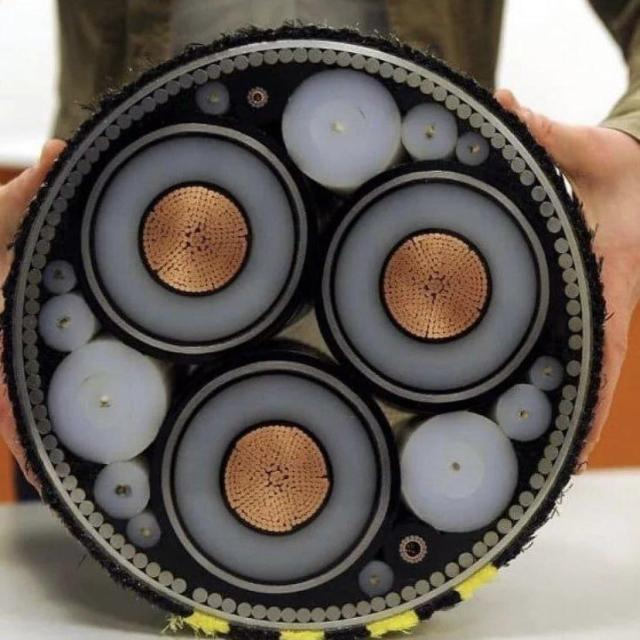wire: (538, 216, 572, 234), (71, 149, 111, 163), (110, 524, 128, 552), (88, 504, 107, 530), (34, 418, 61, 436), (504, 155, 532, 172), (50, 462, 78, 479), (440, 560, 464, 579), (513, 488, 538, 506), (548, 237, 580, 251), (389, 63, 409, 85), (133, 545, 148, 574), (556, 253, 583, 269), (534, 200, 559, 217), (23, 374, 48, 390), (91, 140, 124, 152), (562, 300, 586, 316), (23, 296, 47, 312), (63, 171, 88, 186), (402, 585, 419, 607), (564, 333, 586, 350), (203, 61, 220, 83), (207, 585, 221, 611), (104, 514, 118, 540), (22, 359, 50, 372), (453, 553, 478, 567), (46, 449, 71, 463), (39, 434, 62, 449), (281, 605, 299, 624), (69, 486, 88, 504), (479, 120, 496, 140), (507, 503, 527, 520), (529, 473, 549, 490), (140, 98, 160, 115), (432, 82, 448, 103), (466, 112, 490, 126), (253, 601, 269, 622), (292, 48, 310, 66), (431, 572, 449, 590), (60, 476, 83, 490), (69, 158, 92, 172), (492, 517, 512, 533), (468, 543, 489, 558), (337, 47, 350, 71), (49, 202, 75, 214), (408, 66, 422, 88), (224, 595, 238, 617), (562, 284, 584, 298), (567, 316, 585, 333), (78, 498, 95, 516), (529, 184, 548, 200), (153, 90, 172, 106), (532, 459, 557, 471), (193, 576, 205, 601), (126, 539, 138, 564), (18, 315, 43, 327), (351, 51, 364, 74), (27, 256, 50, 269), (56, 187, 85, 197), (517, 172, 541, 184), (310, 607, 328, 623), (239, 597, 252, 619), (160, 567, 172, 590), (268, 604, 281, 625), (307, 46, 322, 64), (34, 226, 58, 237), (378, 57, 391, 77), (541, 444, 558, 459), (550, 427, 565, 444), (278, 48, 292, 66), (456, 104, 474, 118), (569, 357, 582, 376), (32, 240, 51, 253), (171, 575, 195, 585), (24, 284, 44, 296), (164, 85, 187, 95), (26, 272, 45, 284), (385, 592, 400, 607), (322, 49, 336, 65), (415, 581, 431, 595), (484, 531, 500, 545), (44, 212, 61, 225), (222, 60, 234, 78), (499, 148, 523, 157), (179, 75, 195, 88), (560, 399, 572, 416), (32, 404, 49, 416), (562, 272, 582, 282), (20, 328, 38, 339), (327, 608, 342, 621), (298, 606, 310, 622), (556, 414, 568, 430), (264, 50, 278, 63), (358, 600, 368, 618), (102, 126, 122, 135), (425, 76, 433, 98), (490, 136, 506, 147), (341, 605, 357, 616), (447, 94, 459, 108), (96, 394, 110, 406), (368, 57, 378, 73), (27, 345, 40, 357), (60, 318, 72, 331), (251, 53, 262, 67), (151, 556, 158, 578), (372, 599, 384, 611), (565, 386, 577, 398), (117, 116, 129, 128), (129, 109, 145, 118), (195, 72, 208, 83), (139, 528, 152, 539), (238, 56, 247, 70), (31, 391, 43, 401), (522, 409, 530, 422), (116, 486, 126, 496), (370, 576, 381, 584), (453, 462, 461, 473), (331, 124, 342, 132), (470, 146, 480, 154), (430, 123, 434, 141), (209, 94, 218, 102), (413, 534, 419, 542), (546, 369, 551, 376), (409, 534, 414, 540), (420, 541, 426, 546), (409, 559, 415, 564), (57, 271, 62, 277), (264, 94, 270, 99), (201, 187, 206, 193), (421, 550, 428, 554), (418, 553, 425, 557), (399, 553, 406, 557), (263, 99, 270, 103), (191, 185, 195, 192), (398, 543, 403, 548), (247, 90, 252, 95), (398, 548, 404, 552), (262, 90, 268, 94), (260, 103, 266, 107), (195, 185, 198, 192), (418, 557, 423, 561), (400, 538, 405, 542), (256, 103, 260, 108), (251, 103, 255, 108), (248, 100, 252, 105), (250, 88, 256, 91), (405, 536, 409, 540), (419, 537, 423, 541), (402, 556, 406, 560), (255, 86, 259, 90), (260, 87, 264, 91), (422, 546, 427, 549), (414, 560, 418, 563), (198, 187, 201, 191), (406, 559, 408, 563), (248, 96, 250, 100)
